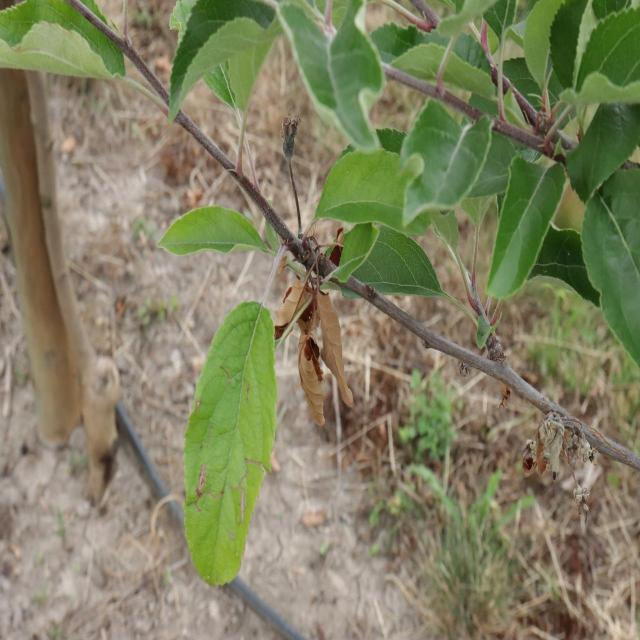-FireBlight-: (276, 262, 354, 432)
